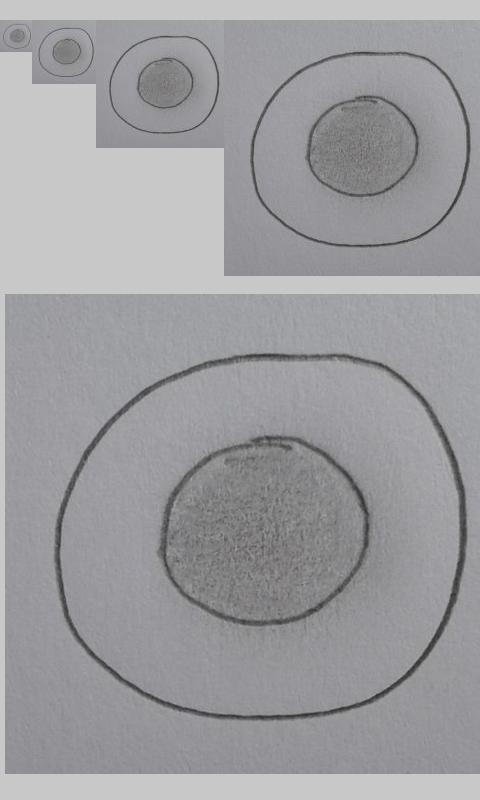radio_button: (49, 348, 468, 722), (249, 50, 471, 248), (108, 34, 220, 135), (37, 26, 95, 78), (2, 23, 32, 50)
